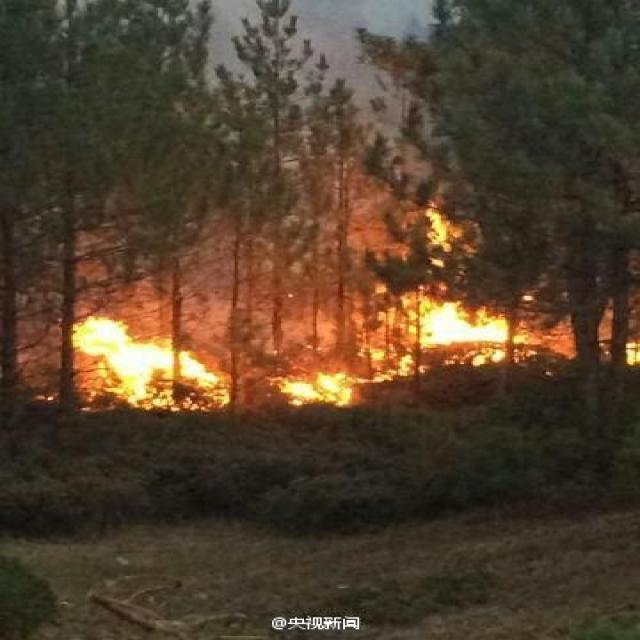Fire: (265, 278, 539, 409), (65, 317, 232, 412), (423, 200, 477, 266), (624, 340, 640, 367)
Smoke: (201, 1, 459, 180)
